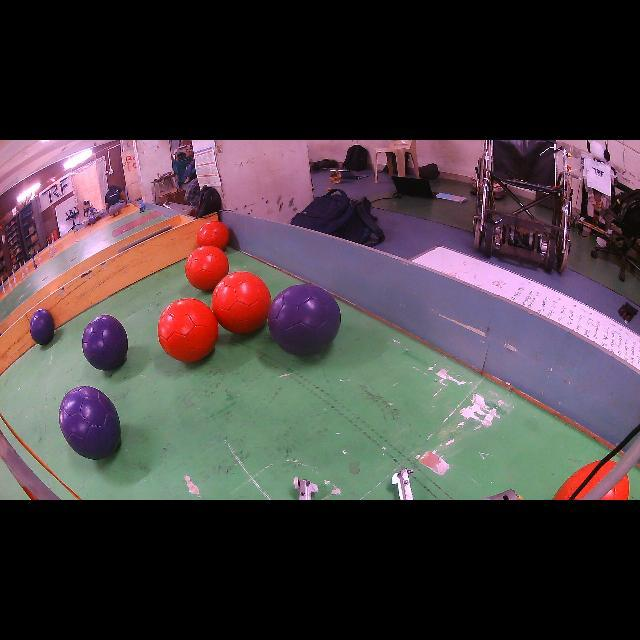P: (268, 284, 340, 355), (59, 386, 121, 460), (82, 315, 128, 370), (30, 309, 55, 345)
R: (158, 299, 219, 362), (211, 271, 271, 334), (185, 245, 229, 290), (196, 221, 230, 250)
